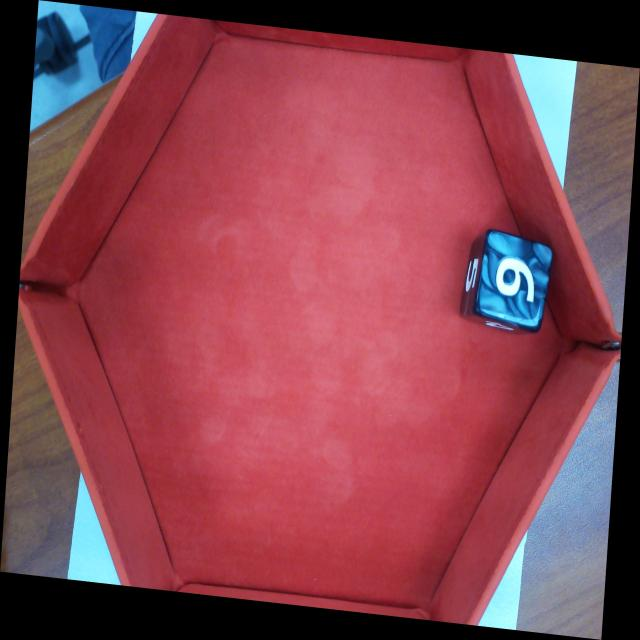dice: (477, 228, 552, 332)
